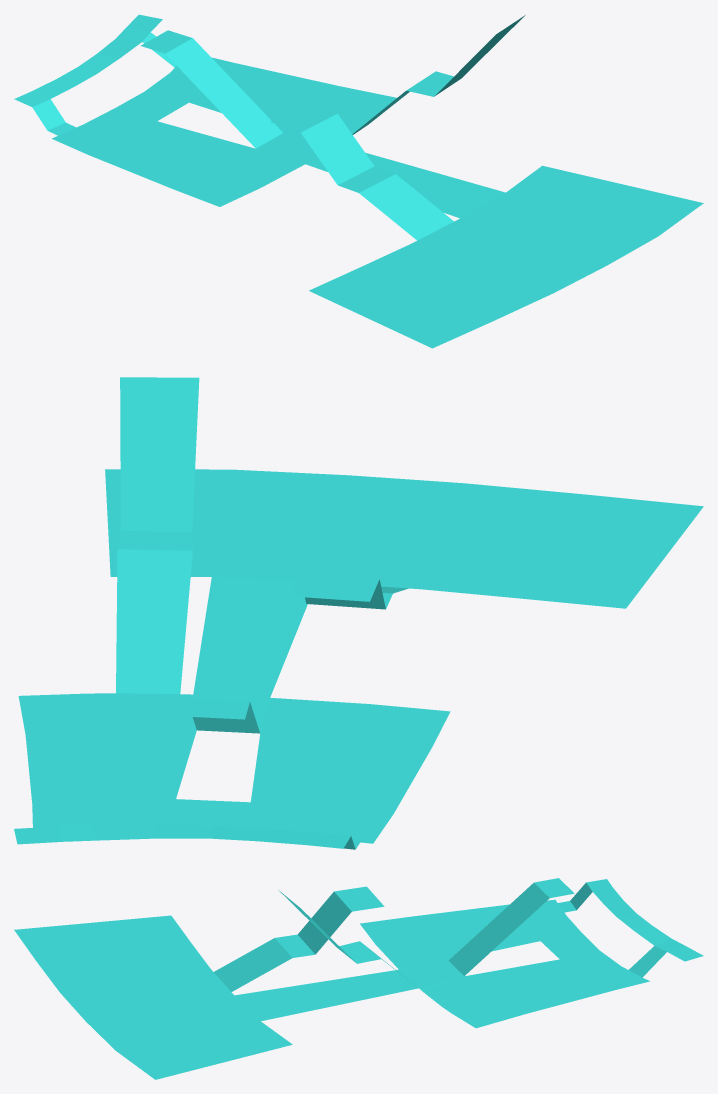
Rendered from colera1Nav.glb.
3 views of the same model, one above another, from view 1: azimuth 30°, elevation 25°; view 2: azimuth 150°, elevation 25°; view 3: azimuth 270°, elevation 25° (orthographic). The views are drawn at different scales.
Visible parts, largest first — view 1: Plane.001; view 2: Plane.001; view 3: Plane.001.
Part boxes in pixels (x1=…): Plane.001: x1=14, y1=14, x2=703, y2=348; Plane.001: x1=14, y1=377, x2=703, y2=849; Plane.001: x1=14, y1=878, x2=703, y2=1079.
Bounding box in the file's own units: 109 × 36.49 × 173.
